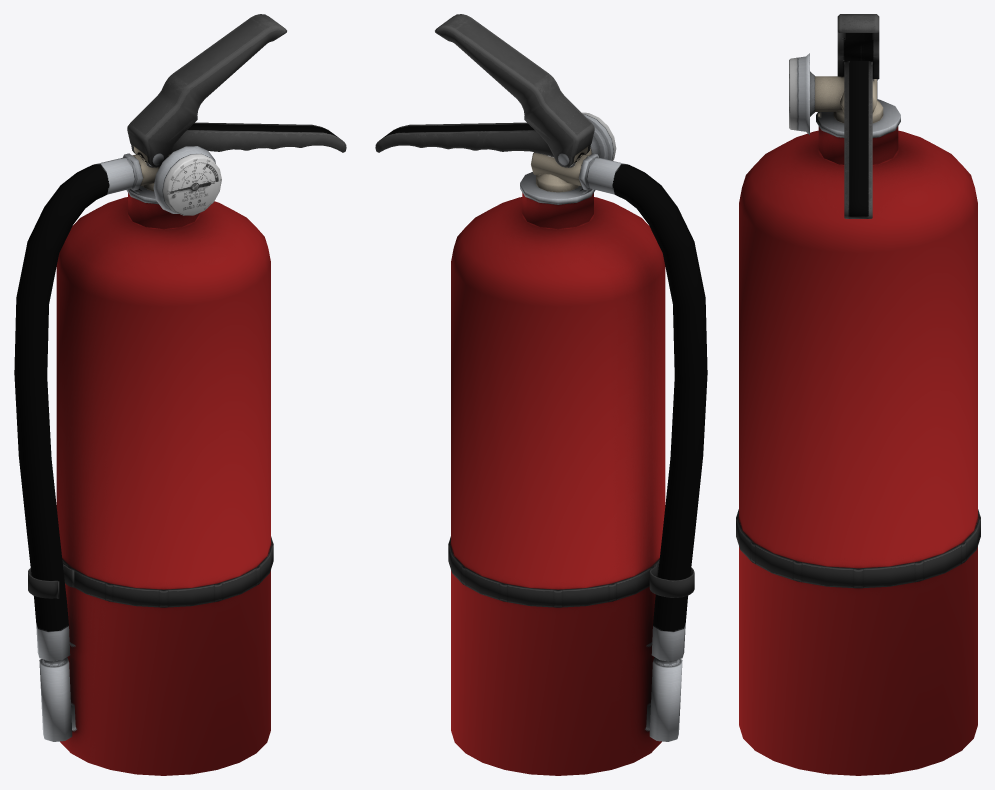
The model's file is extinguisher.dae.
3 renders of one model, left to right at view 1: azimuth 30°, elevation 25°; view 2: azimuth 150°, elevation 25°; view 3: azimuth 270°, elevation 25°, orthographic. The views are drawn at different scales.
Parts seen in each view (by area): view 1: Extinguisher; view 2: Extinguisher; view 3: Extinguisher.
Boxes of the visible parts, left/top/right/bottom form: Extinguisher: left=14, top=14, right=346, bottom=775; Extinguisher: left=375, top=14, right=707, bottom=775; Extinguisher: left=736, top=14, right=980, bottom=775.
Size of the model in its own units: 21.2 by 12.45 by 42.84.
1 material, 1 textured.
